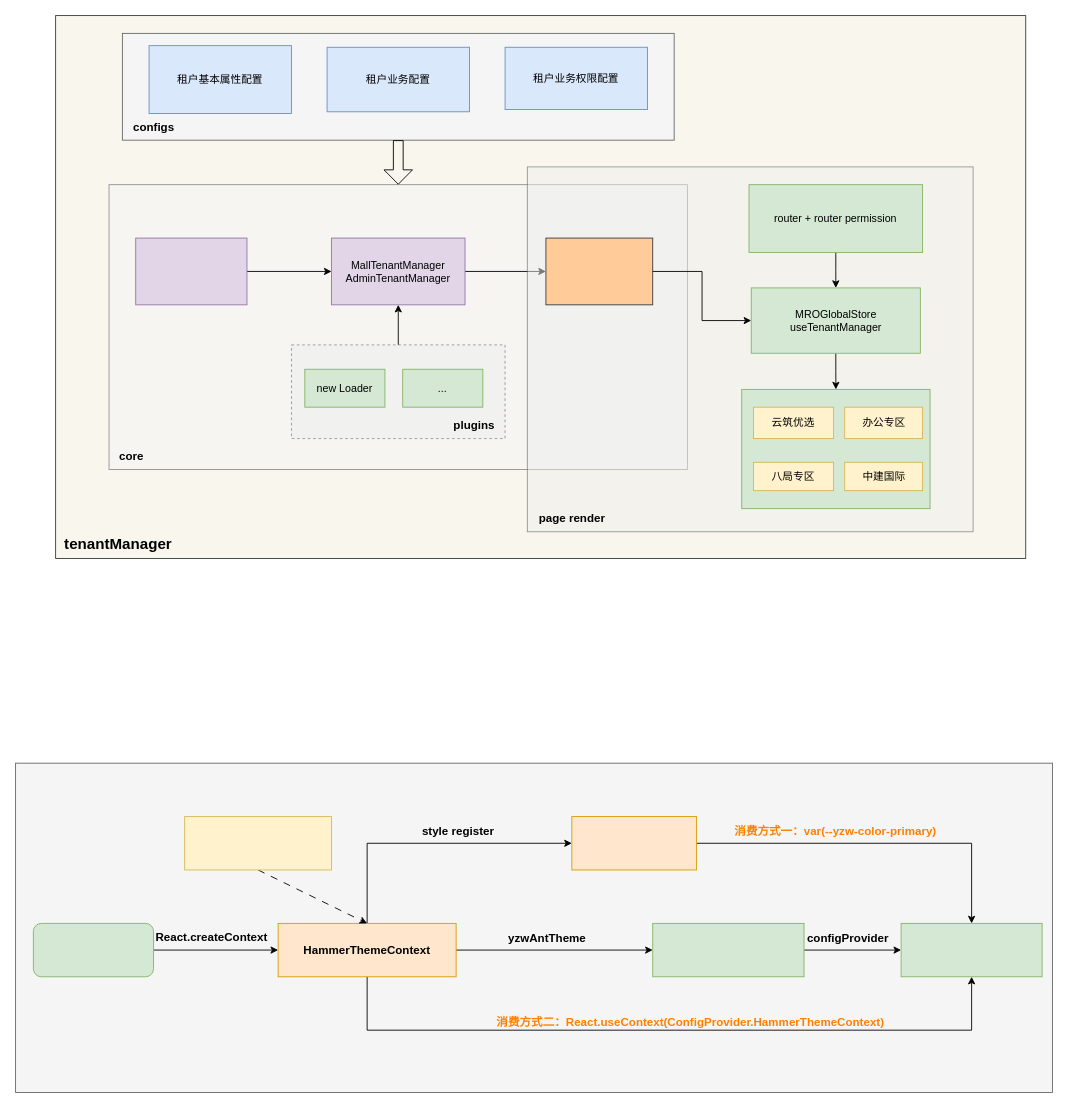
Image size: 1068x1108. Some labels were removed from this diagram. Here are the shapes that lost their labels. From the top down, the centre of each, then its label:
At (191,271): "BaseTenantManager".
At (599,271): "new TenantManager (instance)".
At (258,843): "自定义HammerThemeContext".
At (633,843): "global css variables".
At (93,949): "hammerThemeVars".
At (728,949): "AntTheme token".
At (971,949): "pages/components".
